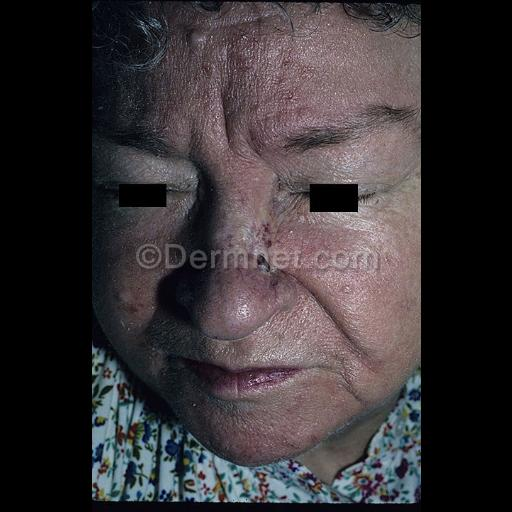Skin_Lesion: (188, 150, 218, 258), (102, 286, 148, 326), (190, 27, 220, 67), (243, 250, 281, 280), (255, 212, 275, 254)
